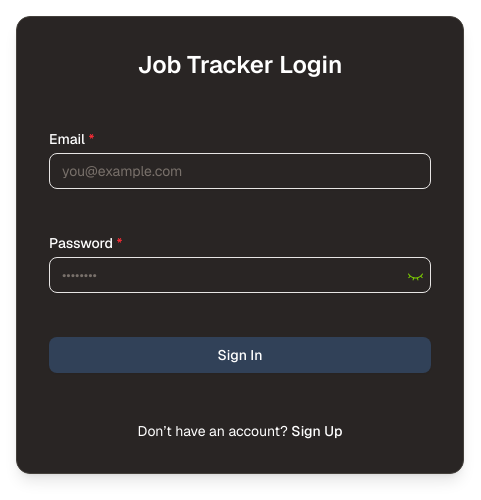
Login page › shows validation errors on empty submit
Click the button "Sign In" at (240, 355), box [49,337,431,373]
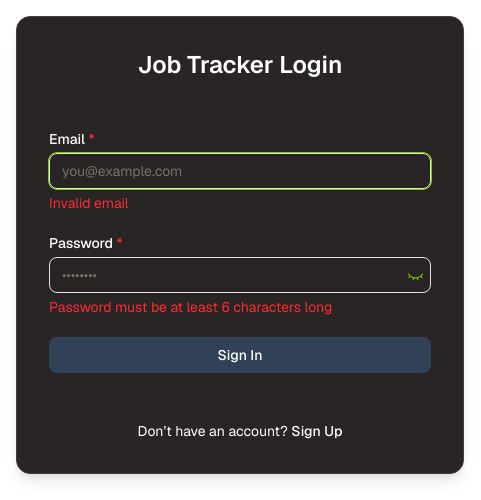
Expected: the text "Invalid email" is shown, [49,194,128,212]
Expected: the text "Password must be at least 6 characters long" is shown, [49,298,332,316]
